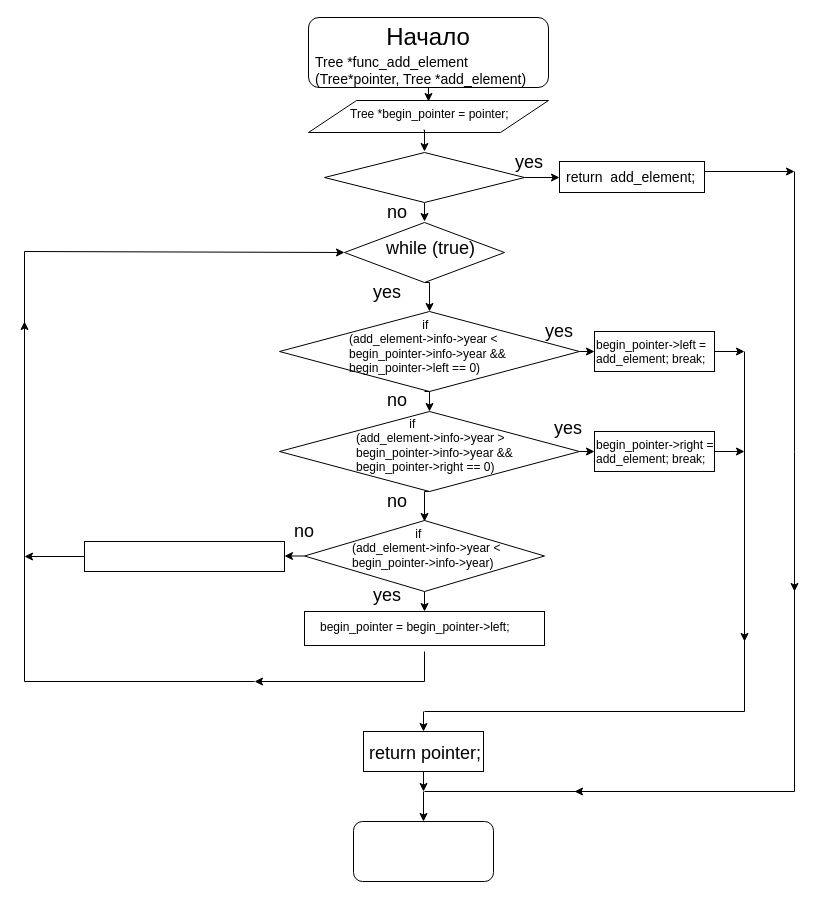
Some shapes in this 820 by 899 pixel diagram are drawn without their labels. The shapes that lost their labels are listed below. From the top down, each one's centre as x and y in pixels, then its label:
At pixel 424 177: "if (pointer == NULL)".
At pixel 184 556: "begin_pointer = begin_pointer->right;".
At pixel 423 851: "Конец".
